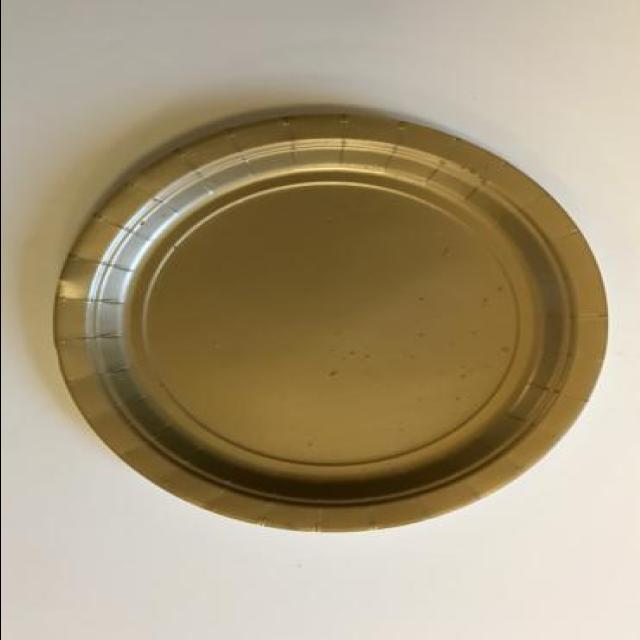kertas: (51, 112, 608, 536)
